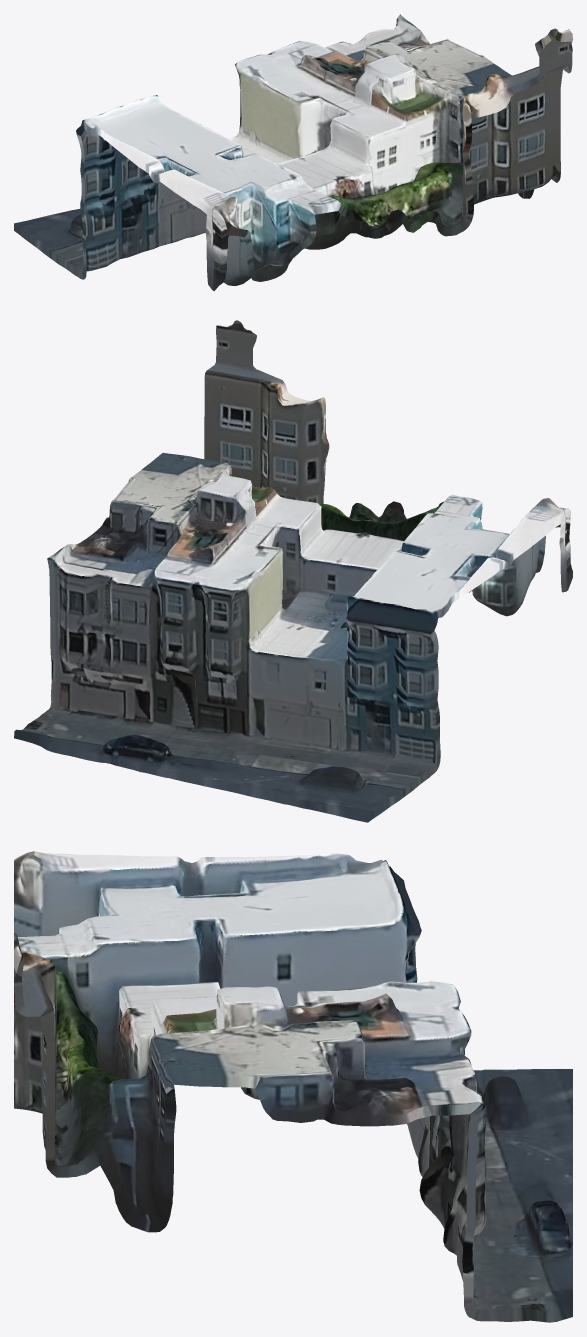
File: z20-167744-405193-h0-yup-uvflip-v3-world.glb
The picture shows the model from 3 angles, top to bottom: view 1: azimuth 30°, elevation 25°; view 2: azimuth 150°, elevation 25°; view 3: azimuth 270°, elevation 25°; orthographic projection. The views are drawn at different scales.
Bounding box in the file's own units: 30.2 × 22.56 × 30.32.
1 material, 1 textured.
